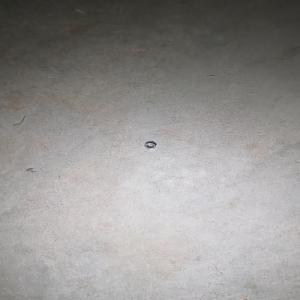Nut: (144, 142, 157, 149)
